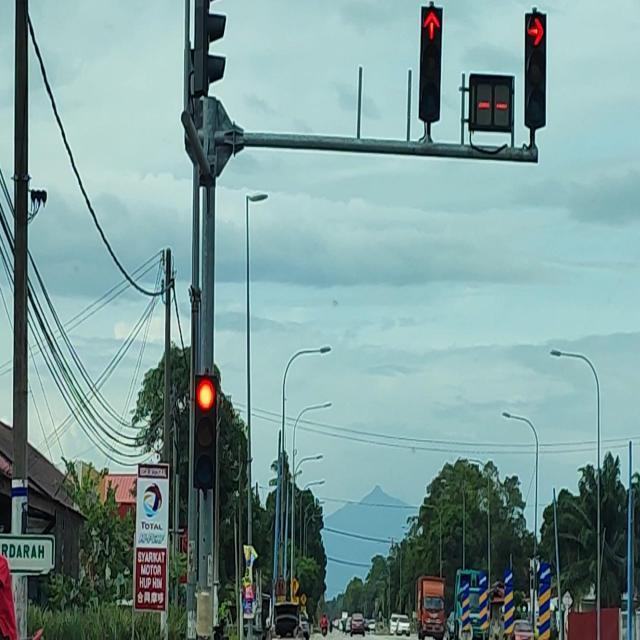red_light: (418, 5, 442, 120), (524, 12, 546, 126), (194, 374, 216, 486)
